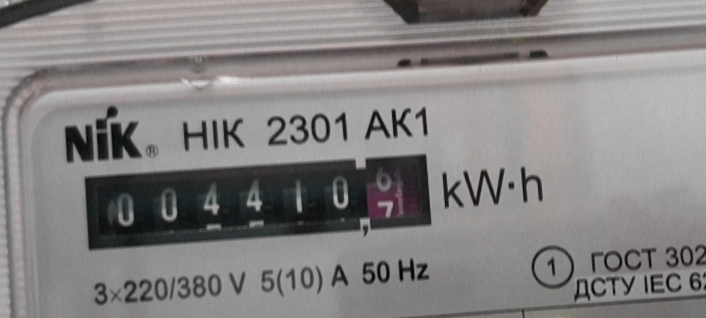0: (112, 188, 137, 227), (329, 172, 351, 209), (158, 183, 178, 222)
1: (289, 175, 306, 213)
4: (198, 176, 223, 216), (241, 174, 266, 214)
6: (375, 164, 394, 191)
7: (375, 197, 395, 218)
screen: (71, 136, 445, 263)
